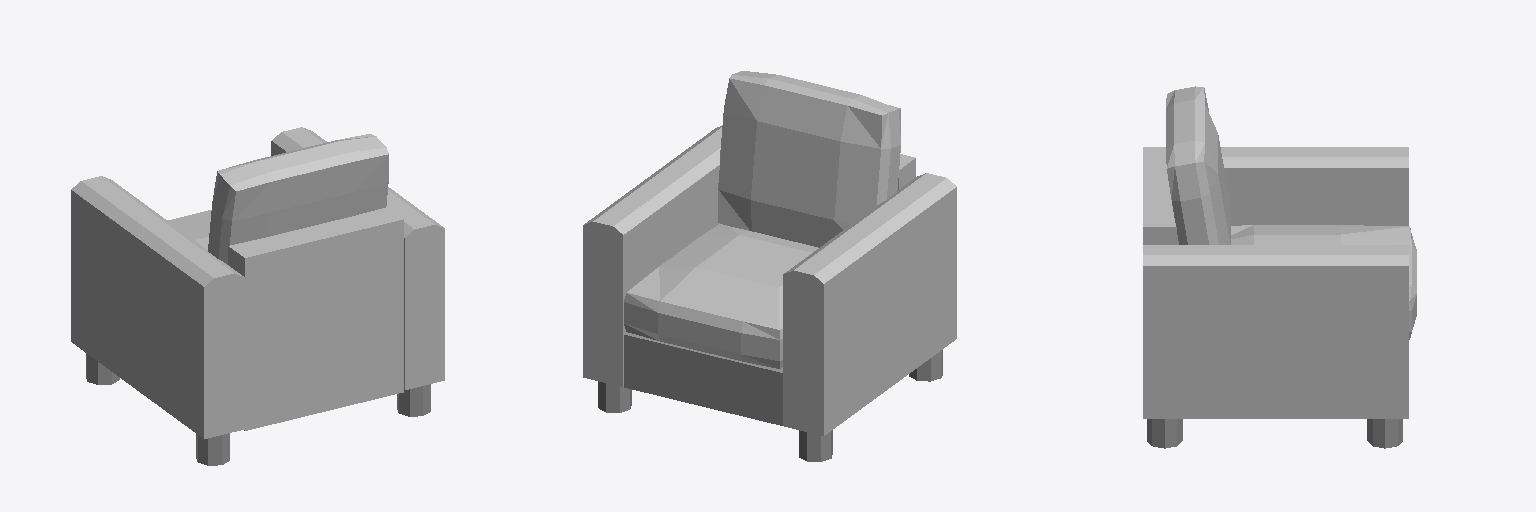
The model's file is simple_sofa.obj.
3 views of the same model, side by side, from view 1: azimuth 30°, elevation 25°; view 2: azimuth 150°, elevation 25°; view 3: azimuth 270°, elevation 25° (orthographic).
Parts seen in each view (by area): view 1: Cube.004; view 2: Cube.004; view 3: Cube.004.
Part boxes in pixels (left/top/right/bottom): Cube.004: left=71, top=127, right=444, bottom=465; Cube.004: left=583, top=71, right=956, bottom=461; Cube.004: left=1143, top=86, right=1416, bottom=448.
Size of the model in its own units: 2.06 by 2.23 by 2.04.